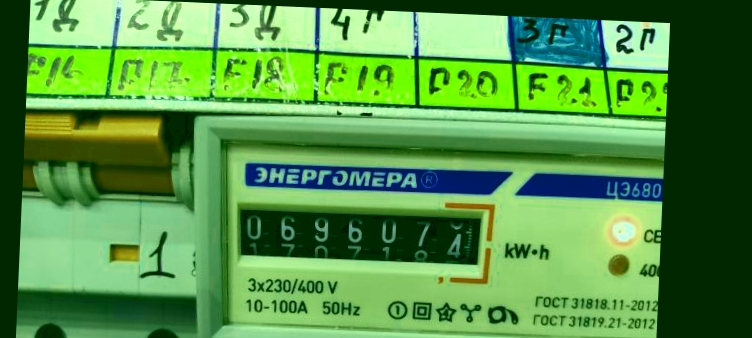0: (242, 212, 264, 241), (379, 215, 398, 245), (278, 214, 296, 241)
4: (444, 231, 462, 260)
6: (344, 214, 363, 244)
7: (412, 218, 431, 247)
9: (311, 214, 330, 243)
screen: (219, 188, 497, 284)
